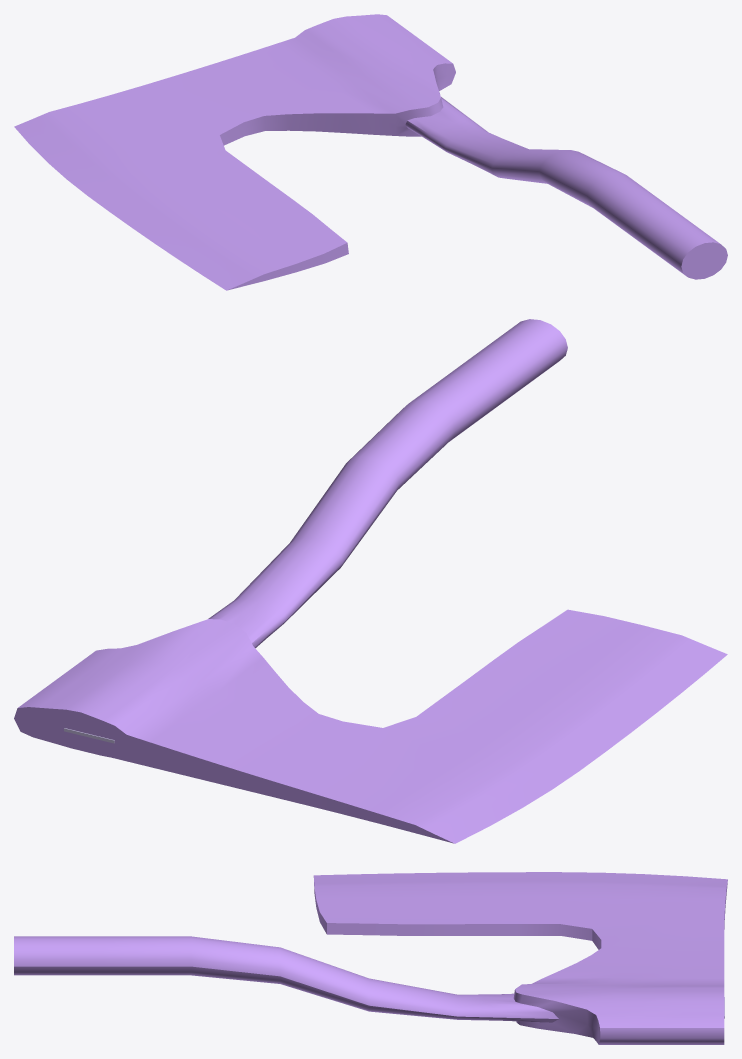
3 renders of one model, top to bottom at view 1: azimuth 30°, elevation 25°; view 2: azimuth 150°, elevation 25°; view 3: azimuth 270°, elevation 25°, orthographic. The views are drawn at different scales.
Visible parts, largest first — view 1: split_parent_0; view 2: split_parent_0; view 3: split_parent_0.
Part boxes in pixels (x1=…): split_parent_0: x1=14, y1=14, x2=727, y2=290; split_parent_0: x1=14, y1=319, x2=727, y2=843; split_parent_0: x1=14, y1=872, x2=727, y2=1044.
Size of the model in its own units: 0.5903 by 0.1266 by 1.
